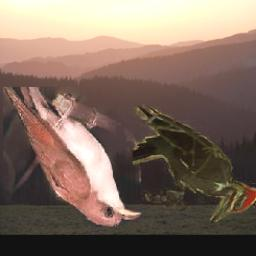Cuckoo: (3, 88, 141, 227)
Woodpecker: (133, 104, 256, 222)
